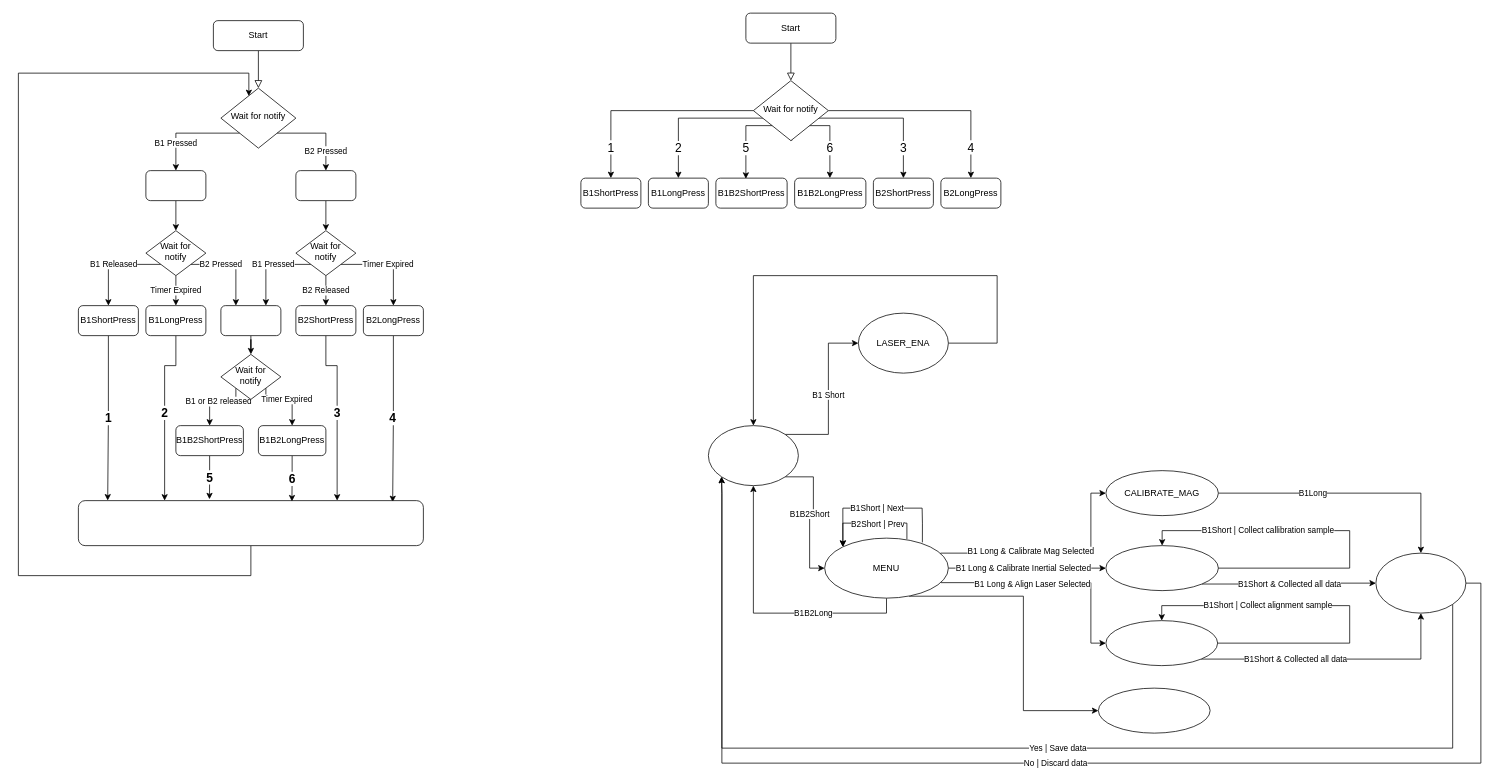
Some shapes in this 1500 by 782 pixel diagram are drawn without their labels. Each missing label, with the centre of its shape:
ALIGN_LASER: the point at 1161,643
B1B2Waiting, start timer: the point at 250,320
B1Waiting, start timer: the point at 175,185
B2Waiting, start timer: the point at 325,185
CALIBRATE_INERTIAL: the point at 1161,568
IDLE: the point at 753,455
LOAD_ALIGNMENT_DATA: the point at 1154,710
Notify computeTask: the point at 250,523
Save Data: the point at 1420,582
